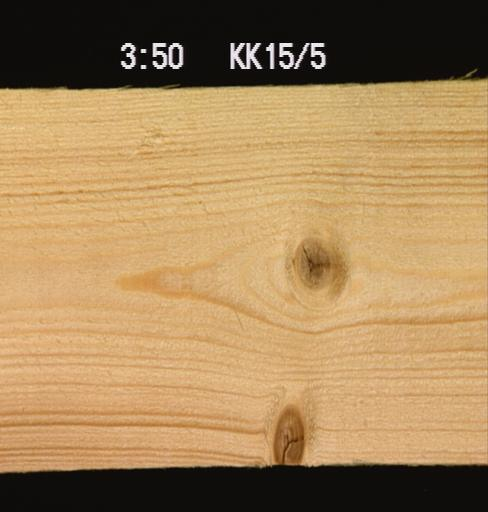edge_knot: (269, 401, 306, 464)
sound_knot: (290, 232, 332, 292)
